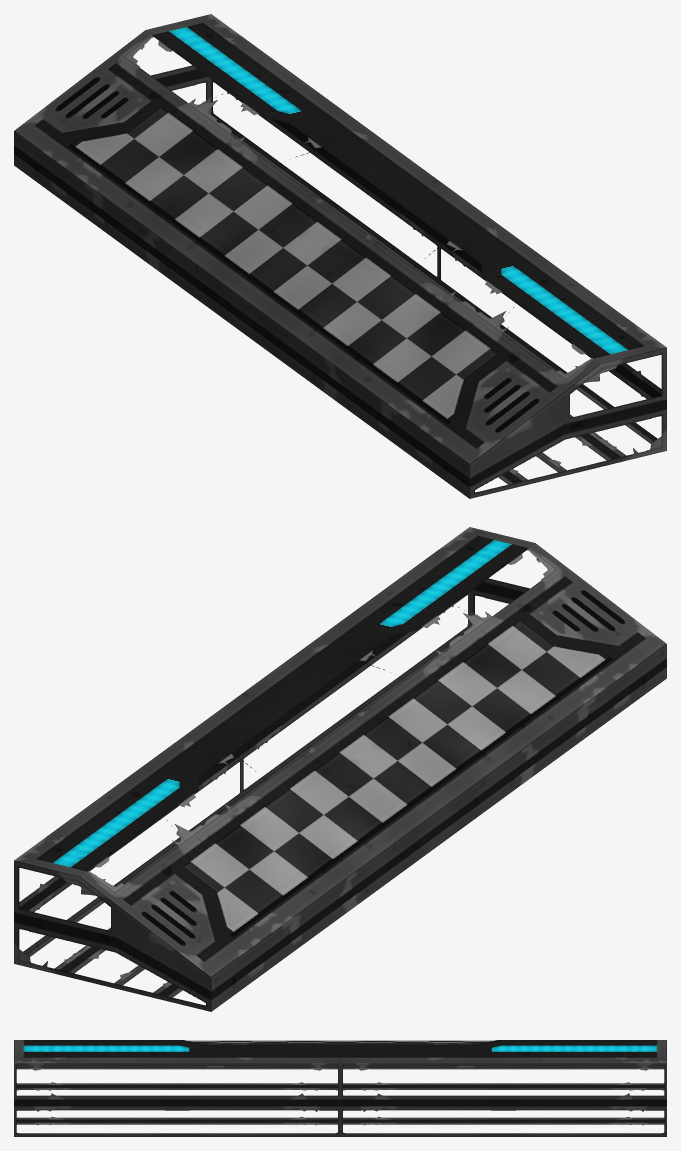
Rendered from obj_challenge_goal_ramp.fbx.
3 views of the same model, one above another, from view 1: azimuth 30°, elevation 25°; view 2: azimuth 150°, elevation 25°; view 3: azimuth 270°, elevation 25° (orthographic). The views are drawn at different scales.
Parts seen in each view (by area): view 1: ramp_LP19; view 2: ramp_LP19; view 3: ramp_LP19.
Part boxes in pixels (box(x1,y1,x2,y2)): ramp_LP19: box(14, 14, 666, 498); ramp_LP19: box(14, 527, 666, 1011); ramp_LP19: box(14, 1040, 666, 1136).
Bounding box in the file's own units: 12 × 6 × 48.
